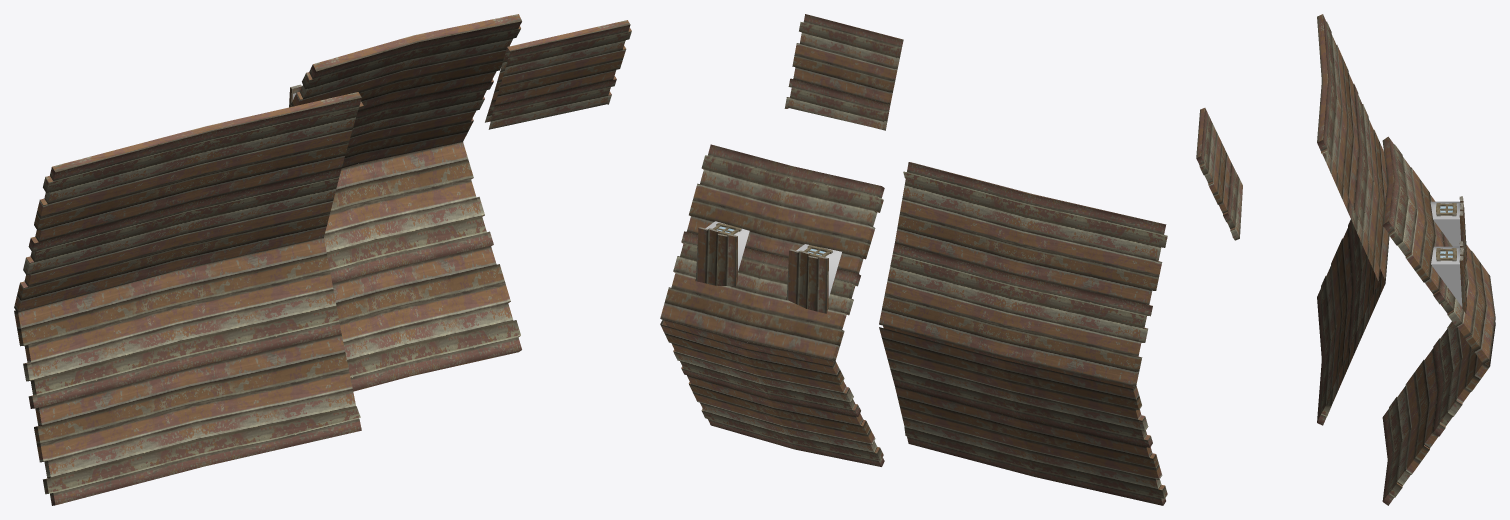
The model's file is Pirate_Bar_Roof_C.fbx.
3 renders of one model, left to right at view 1: azimuth 30°, elevation 25°; view 2: azimuth 150°, elevation 25°; view 3: azimuth 270°, elevation 25°, orthographic. The views are drawn at different scales.
Visible parts, largest first — view 1: Pirate_Bar_Roof_C; view 2: Pirate_Bar_Roof_C; view 3: Pirate_Bar_Roof_C.
Part boxes in pixels (<box>): Pirate_Bar_Roof_C: <box>14,14,631,505</box>; Pirate_Bar_Roof_C: <box>660,14,1167,505</box>; Pirate_Bar_Roof_C: <box>1196,14,1495,505</box>.
Bounding box in the file's own units: 24.07 × 18.67 × 14.46.
